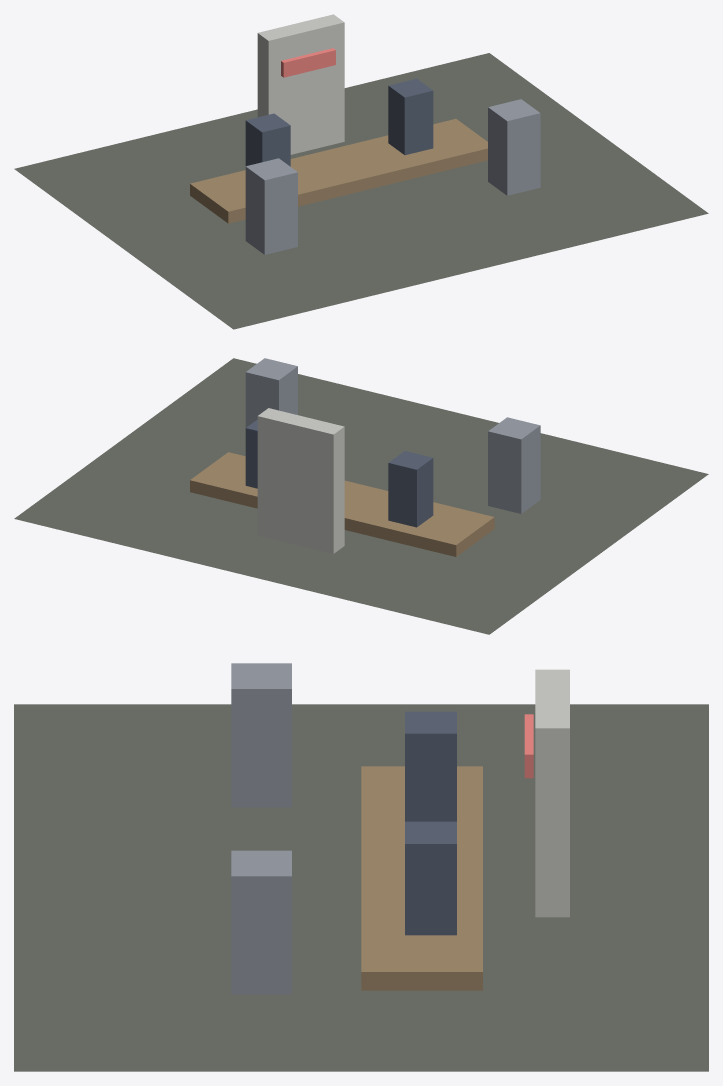
File: world.glb
3 renders of one model, top to bottom at view 1: azimuth 30°, elevation 25°; view 2: azimuth 150°, elevation 25°; view 3: azimuth 270°, elevation 25°, orthographic. The views are drawn at different scales.
Parts seen in each view (by area): view 1: calendar_opaque_mesh, calendar_emissive_mesh; view 2: calendar_opaque_mesh; view 3: calendar_opaque_mesh, calendar_emissive_mesh.
Boxes of the visible parts, x1,y1,x2,y2 form: calendar_opaque_mesh: (14, 14, 708, 329); calendar_emissive_mesh: (281, 48, 335, 77); calendar_opaque_mesh: (14, 358, 708, 634); calendar_opaque_mesh: (14, 663, 708, 1071); calendar_emissive_mesh: (524, 714, 533, 778).
Size of the model in its own units: 10 by 2.4 by 8.
